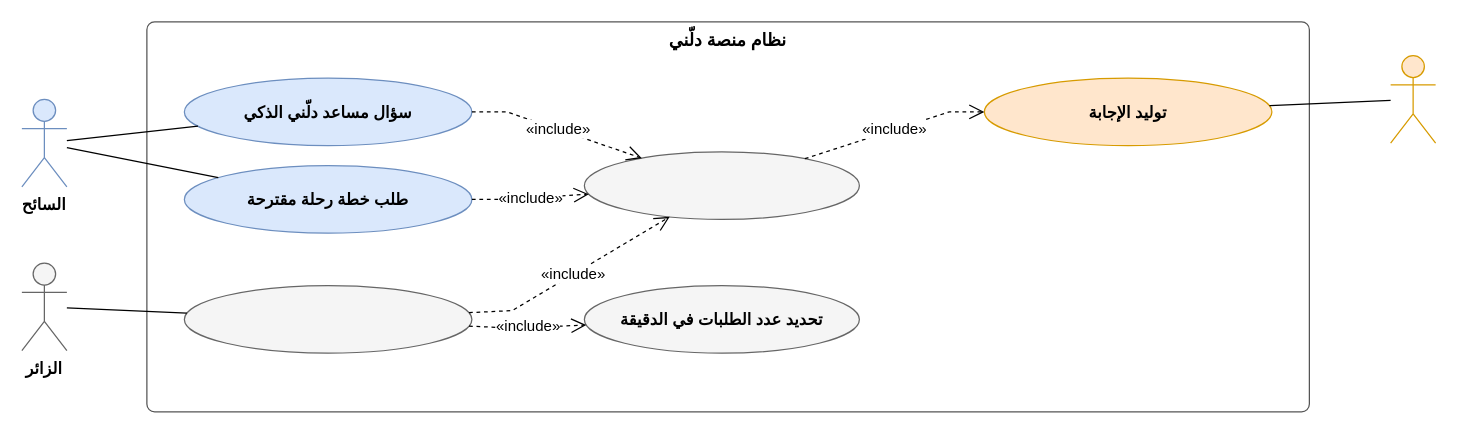
Image size: 1471x434. Some labels were removed from this diagram. Each missing label, with the centre of its shape:
"جلب الرحلات والمعالم المتاحة من المنصة" belongs at [721,185].
"سؤال المساعد دون حساب" belongs at [327,318].
"نموذج الذكاء الاصطناعي (Gemini)" belongs at [1412,98].
